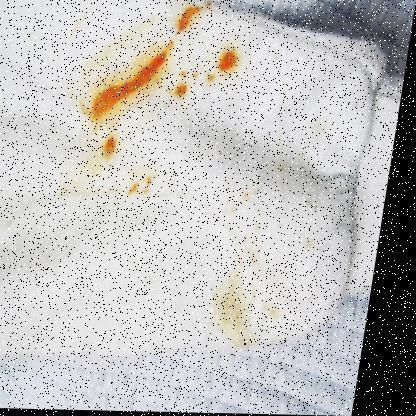kimchi: (79, 42, 180, 123), (212, 236, 261, 350), (219, 160, 281, 212), (203, 39, 245, 87), (170, 3, 215, 36), (122, 173, 164, 201), (91, 132, 130, 160), (172, 70, 193, 100), (264, 304, 283, 320), (301, 237, 319, 253)
